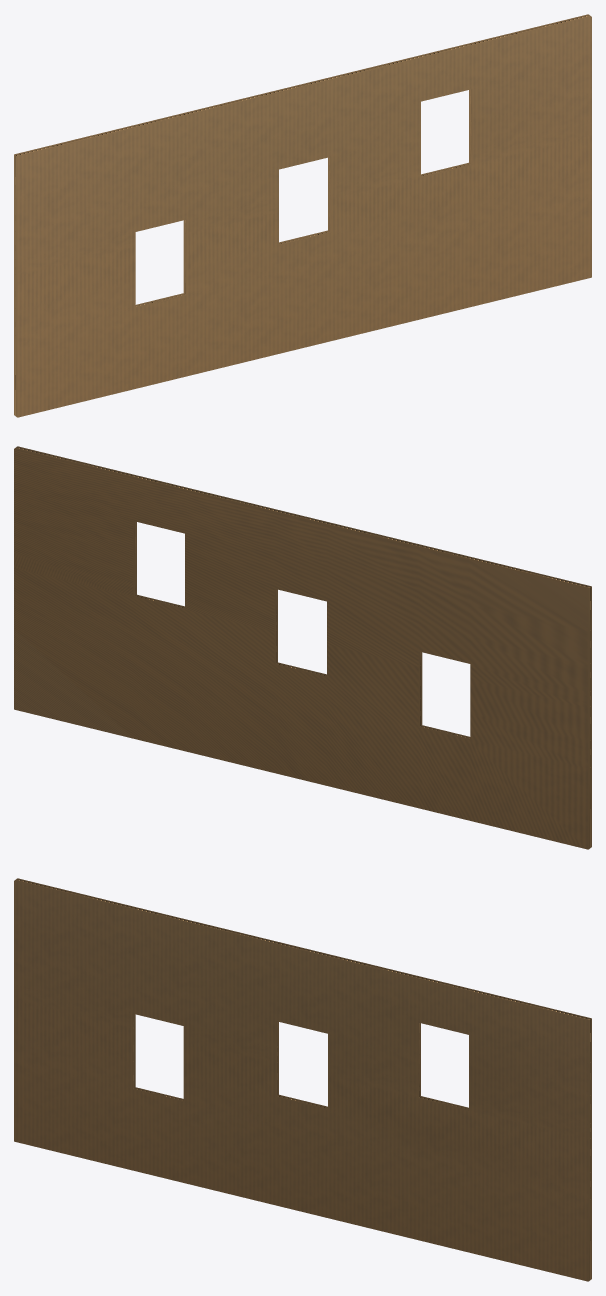
The model's file is Wall_3Doors.fbx.
3 views of the same model, one above another, from view 1: azimuth 30°, elevation 25°; view 2: azimuth 150°, elevation 25°; view 3: azimuth 330°, elevation 25° (orthographic).
Visible parts, largest first — view 1: Wall; view 2: Wall; view 3: Wall.
Part boxes in pixels (x1=…): Wall: x1=14, y1=14, x2=591, y2=417; Wall: x1=14, y1=446, x2=591, y2=849; Wall: x1=14, y1=878, x2=591, y2=1281.
Size of the model in its own units: 5534 by 2400 by 60.
